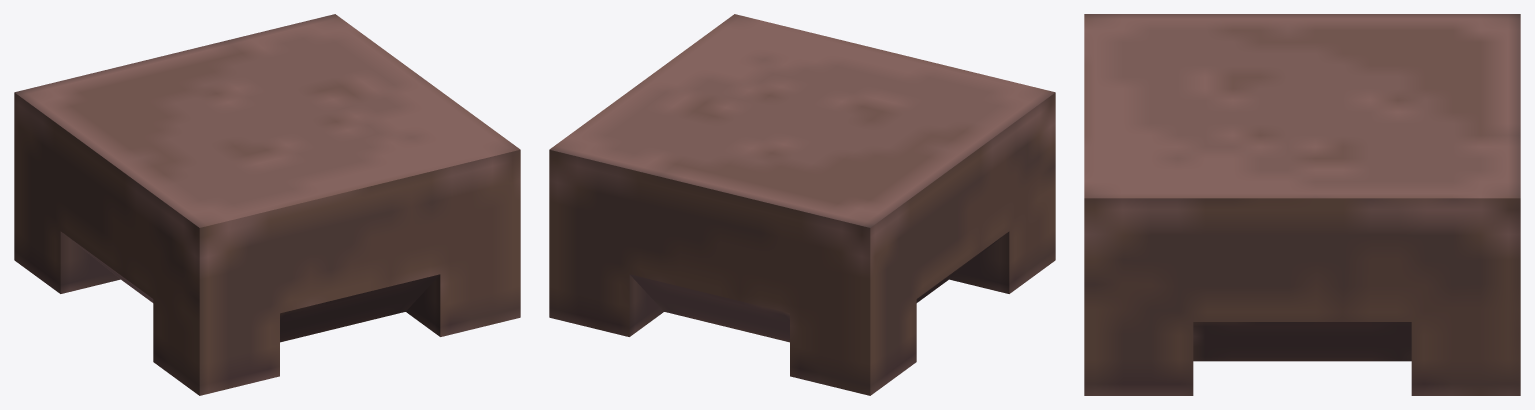
Rendered from pillar_top_type_01_red.fbx.
3 renders of one model, left to right at view 1: azimuth 30°, elevation 25°; view 2: azimuth 150°, elevation 25°; view 3: azimuth 270°, elevation 25°, orthographic. The views are drawn at different scales.
Parts seen in each view (by area): view 1: pillar_top_type_01_red; view 2: pillar_top_type_01_red; view 3: pillar_top_type_01_red.
Boxes of the visible parts, bbox=[...] form: pillar_top_type_01_red: bbox=[14, 14, 520, 395]; pillar_top_type_01_red: bbox=[549, 14, 1055, 395]; pillar_top_type_01_red: bbox=[1084, 14, 1520, 395].
Bounding box in the file's own units: 16 × 8 × 16.
